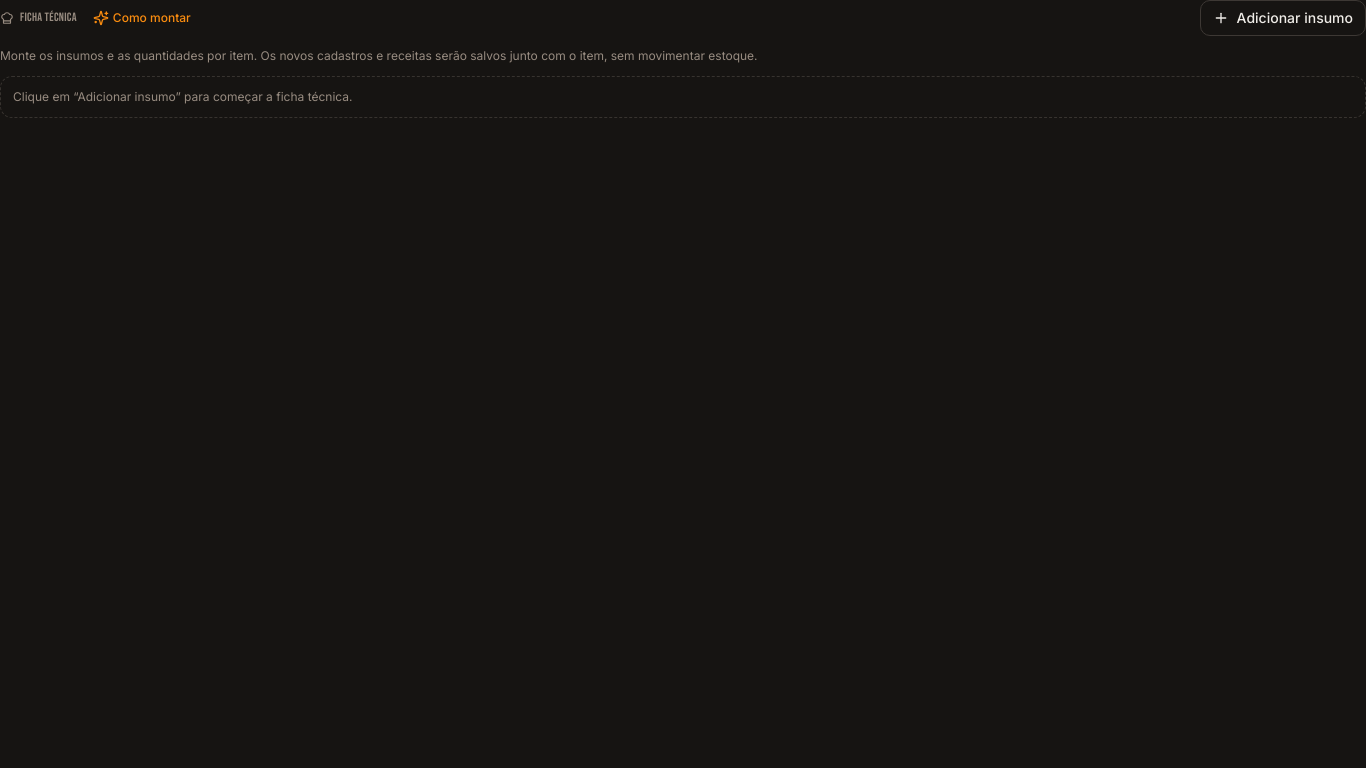
it: technical recipe draft › reuses the existing produced recipe and defaults to one unit per menu item
Click the button "Adicionar insumo": {"x": 1283, "y": 18} [1200,0,1365,36]
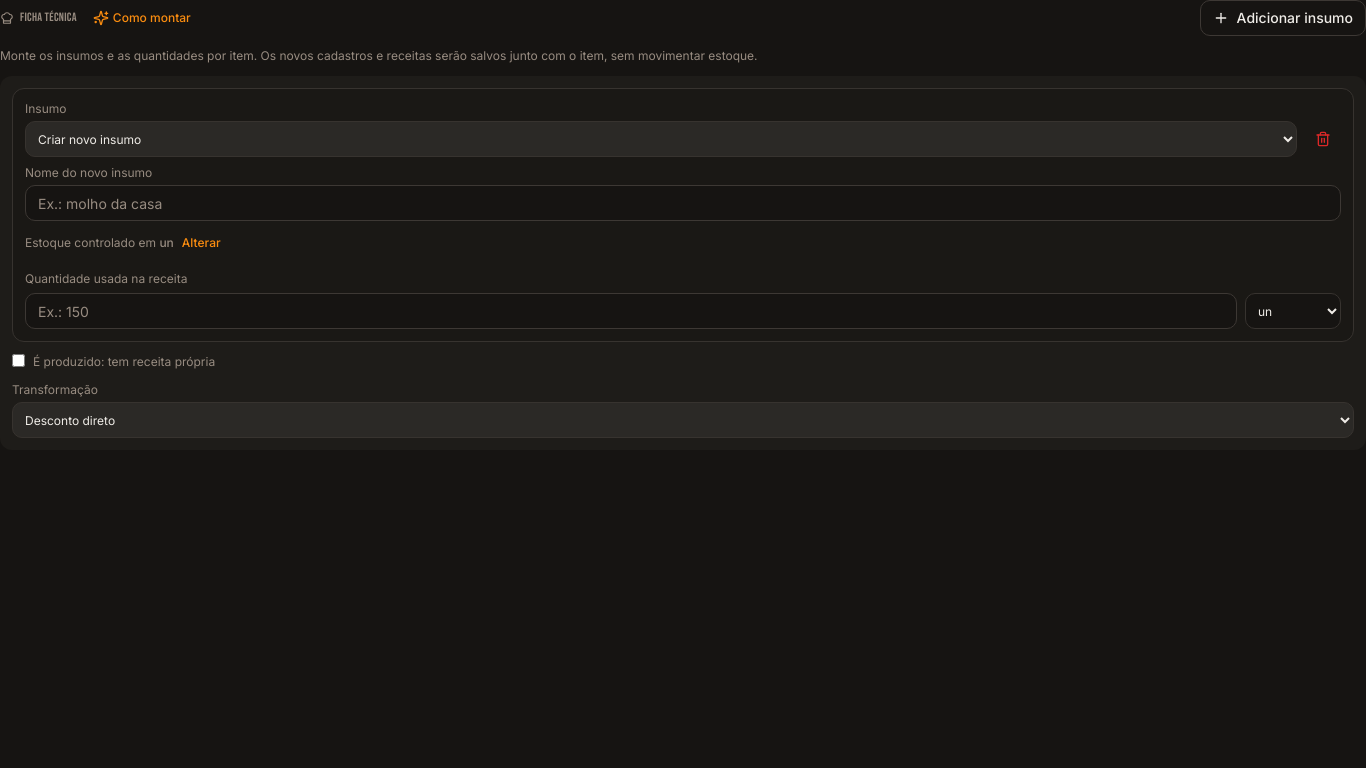
Select "Blend 200g" in the dropdown labelled "Insumo": {"x": 661, "y": 139} [25,121,1297,157]
(page scrolled)
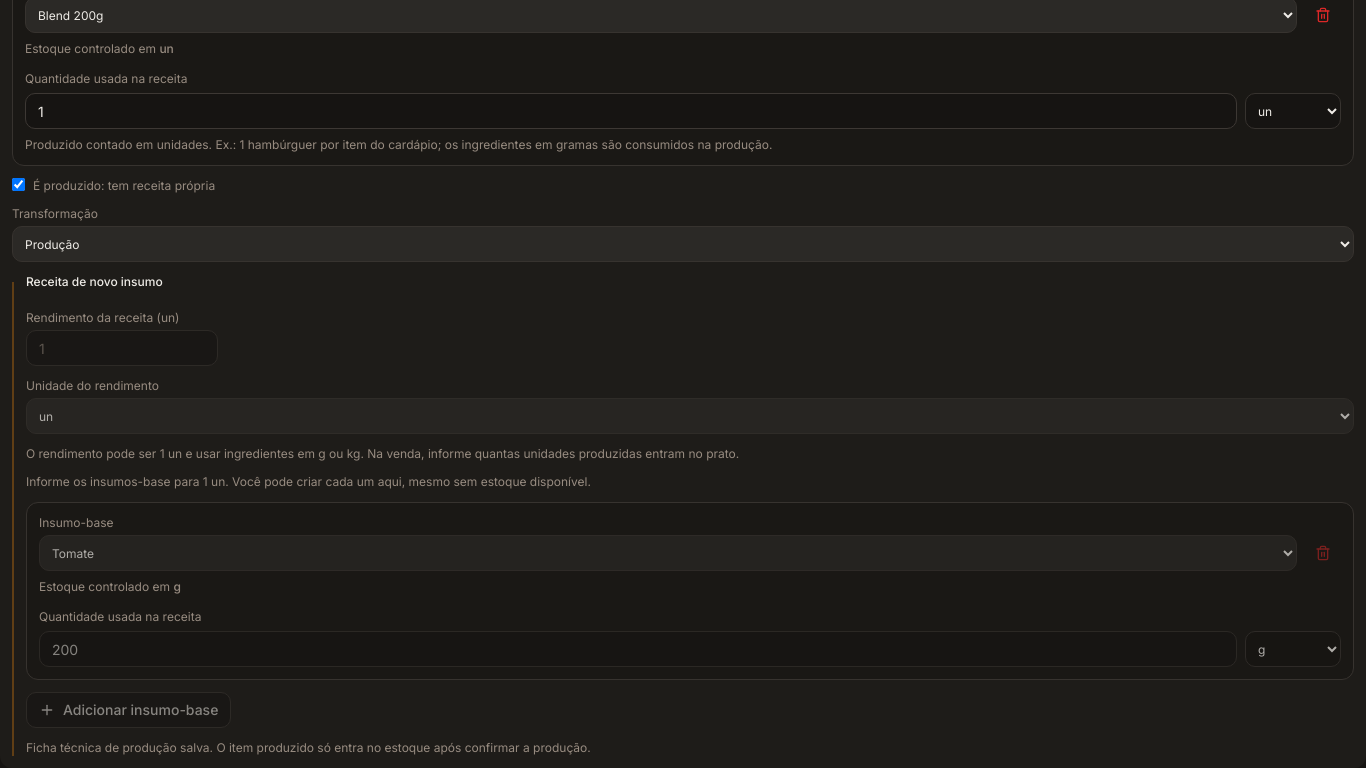
Check: the number field named "Quantidade do insumo por item" holds "1", box [25,93,1237,129]
Check: the number field named "Quantidade do insumo-base" holds "200", box [39,631,1237,667]
Check: the dropdown named "Unidade de medida do insumo-base" shows "g", box [1245,631,1341,667]
